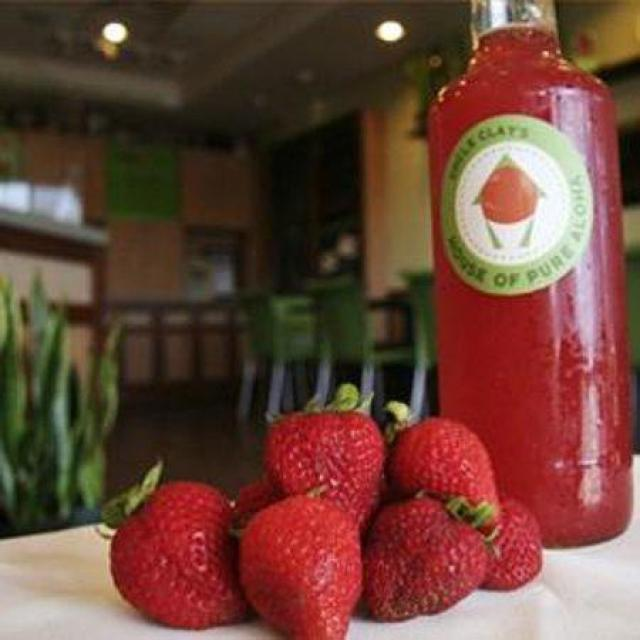other: (97, 359, 561, 630), (428, 15, 630, 552)
